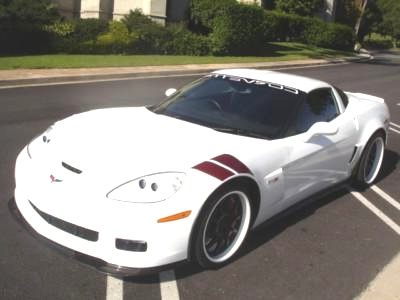car: (5, 54, 399, 282)
